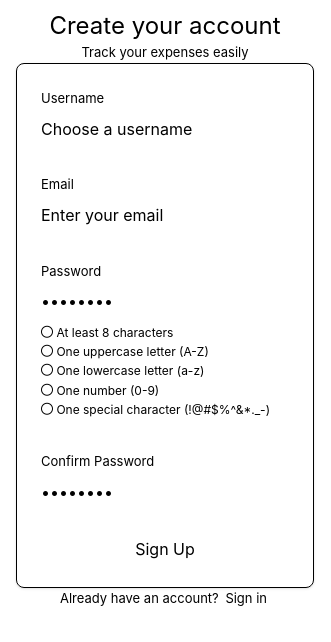
Test: RegisterView › should clear password error when requirements are met
Type "Short1!" into the password field labelled "Password" at (165, 302), box x1=41 y1=289 x2=289 y2=315
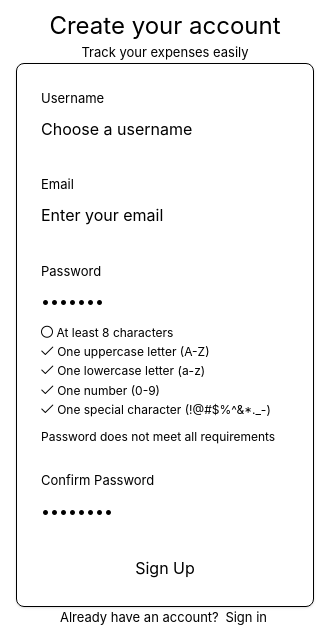
Type "TestPass123!" into the password field labelled "Password" at (165, 302), box x1=41 y1=289 x2=289 y2=315
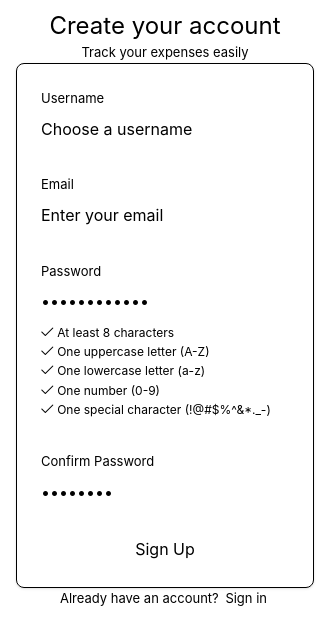
Expected: the text "does not meet all requirements" is gone
